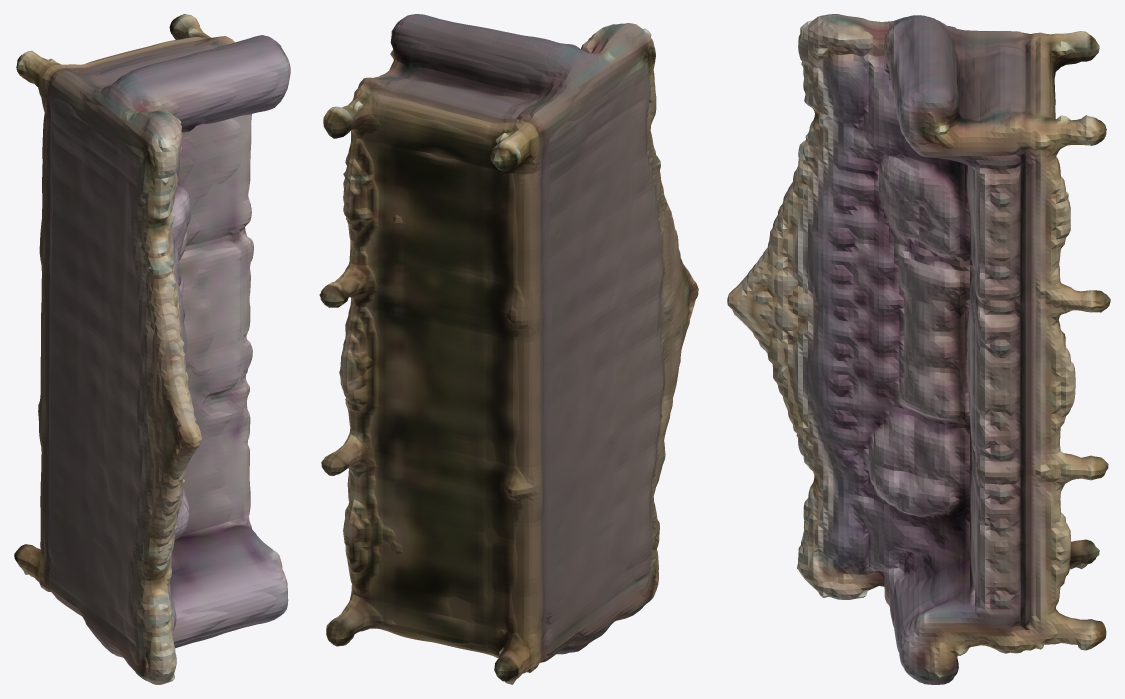
File: chair_model.glb
3 renders of one model, left to right at view 1: azimuth 30°, elevation 25°; view 2: azimuth 150°, elevation 25°; view 3: azimuth 270°, elevation 25°, orthographic. The views are drawn at different scales.
Visible parts, largest first — view 1: world; view 2: world; view 3: world.
Boxes of the visible parts, box(x1,y1,x2,y2) form: world: box(14, 14, 290, 684); world: box(319, 14, 698, 684); world: box(727, 14, 1110, 684).
Size of the model in its own units: 0.3205 by 0.8986 by 0.517.
